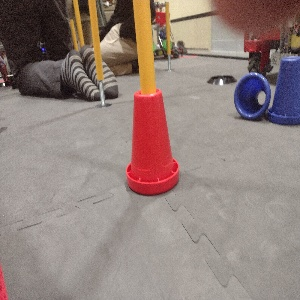Blue_1: (230, 68, 272, 122), (270, 51, 299, 128)
Red_1: (121, 89, 181, 195)
